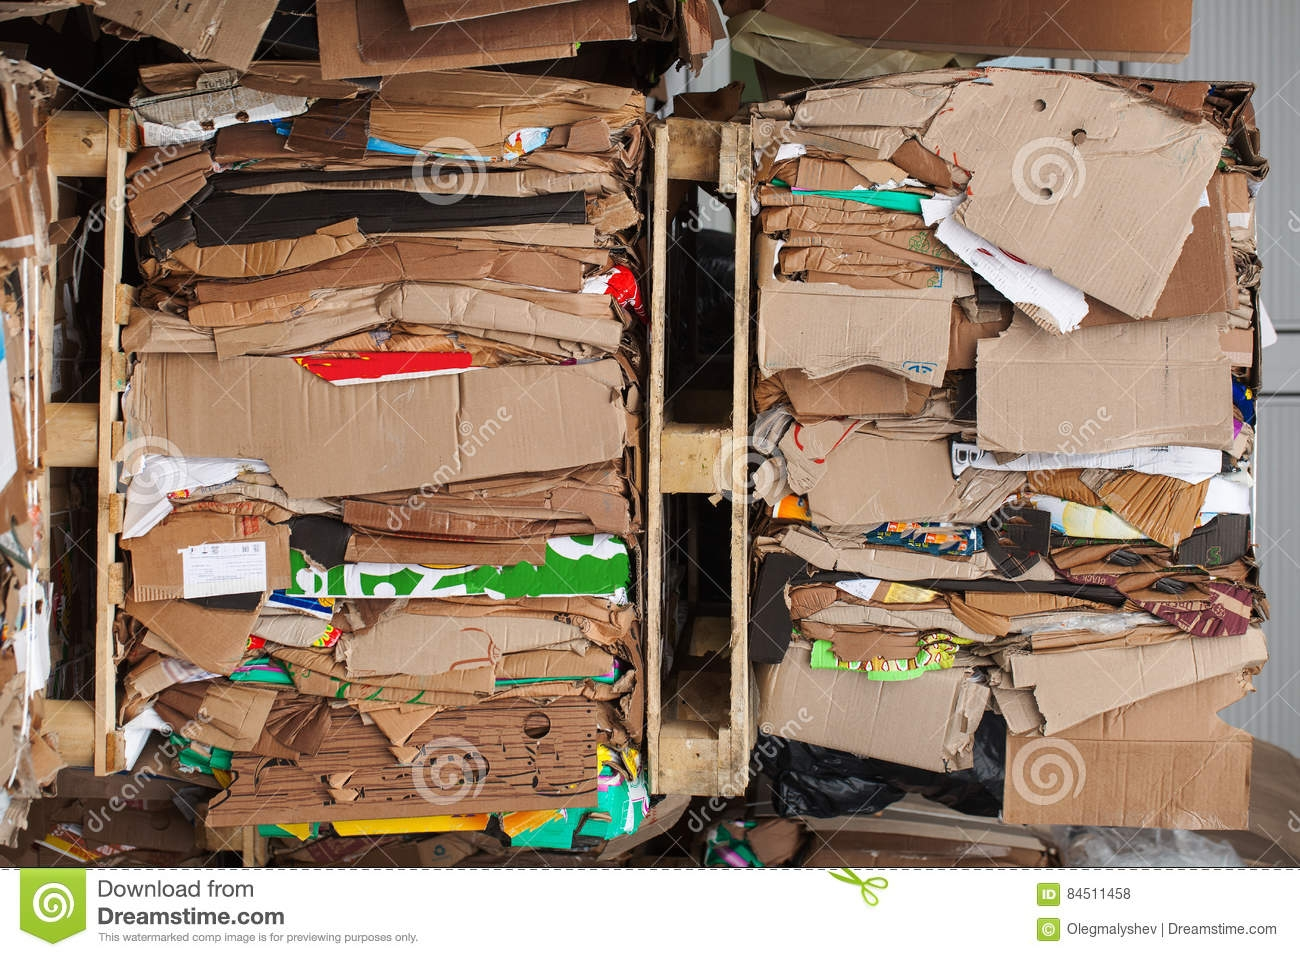paper: (781, 60, 1233, 320), (120, 454, 674, 630), (93, 618, 638, 780), (127, 224, 656, 377), (945, 295, 1268, 463), (774, 394, 986, 537), (734, 270, 970, 397), (1056, 438, 1219, 562)
